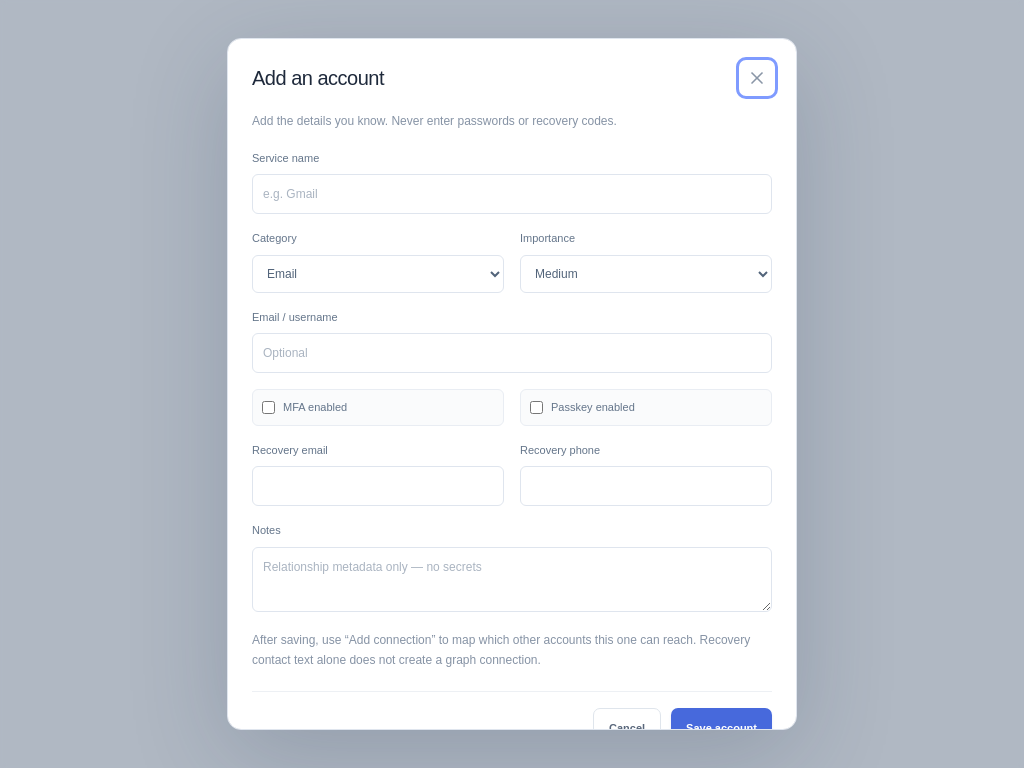
critical UI behavior › shows API failures without claiming a successful save
The width and height of the screenshot is (1024, 768).
Step 1. Type "Example" into the field labelled "Service name" → (512, 194), box [252, 174, 772, 214]
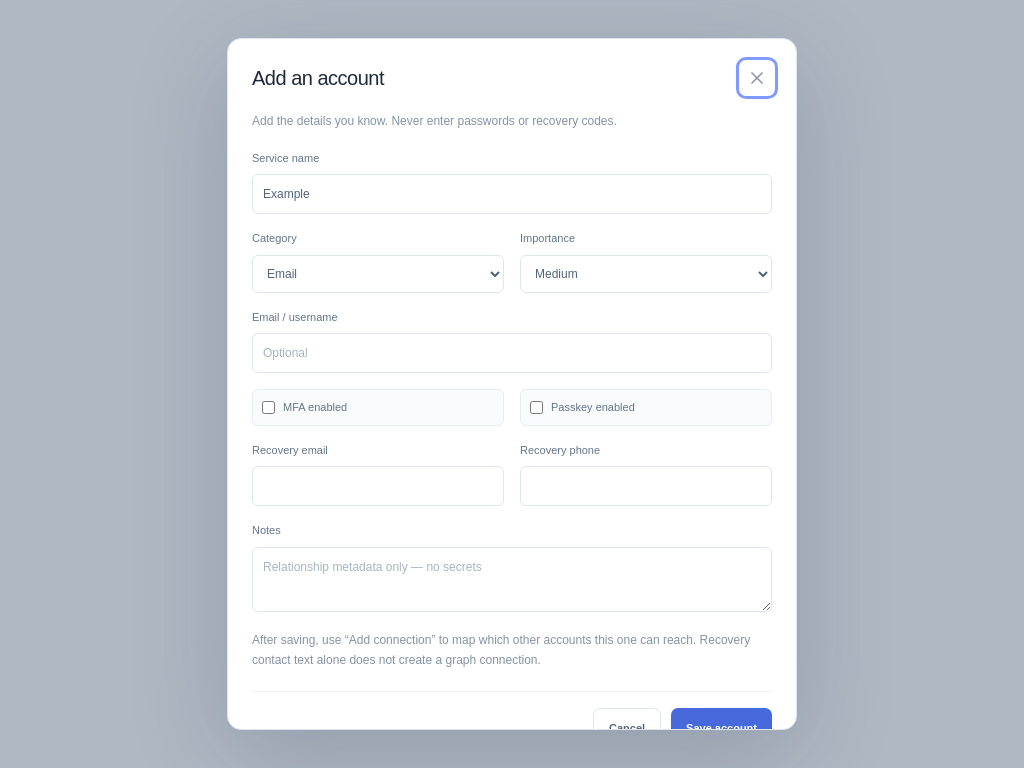
Step 2. Click the button "Save account" → (722, 728), box [671, 708, 772, 748]
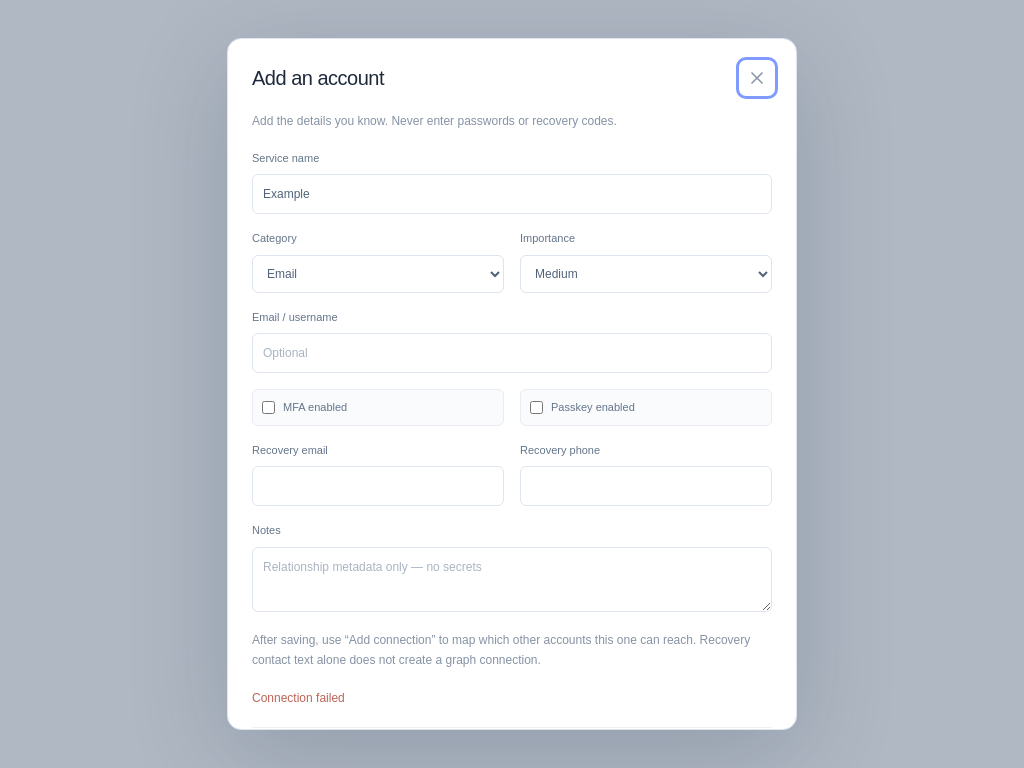
Expected: the message "Connection failed" is shown, [252, 691, 345, 705]
